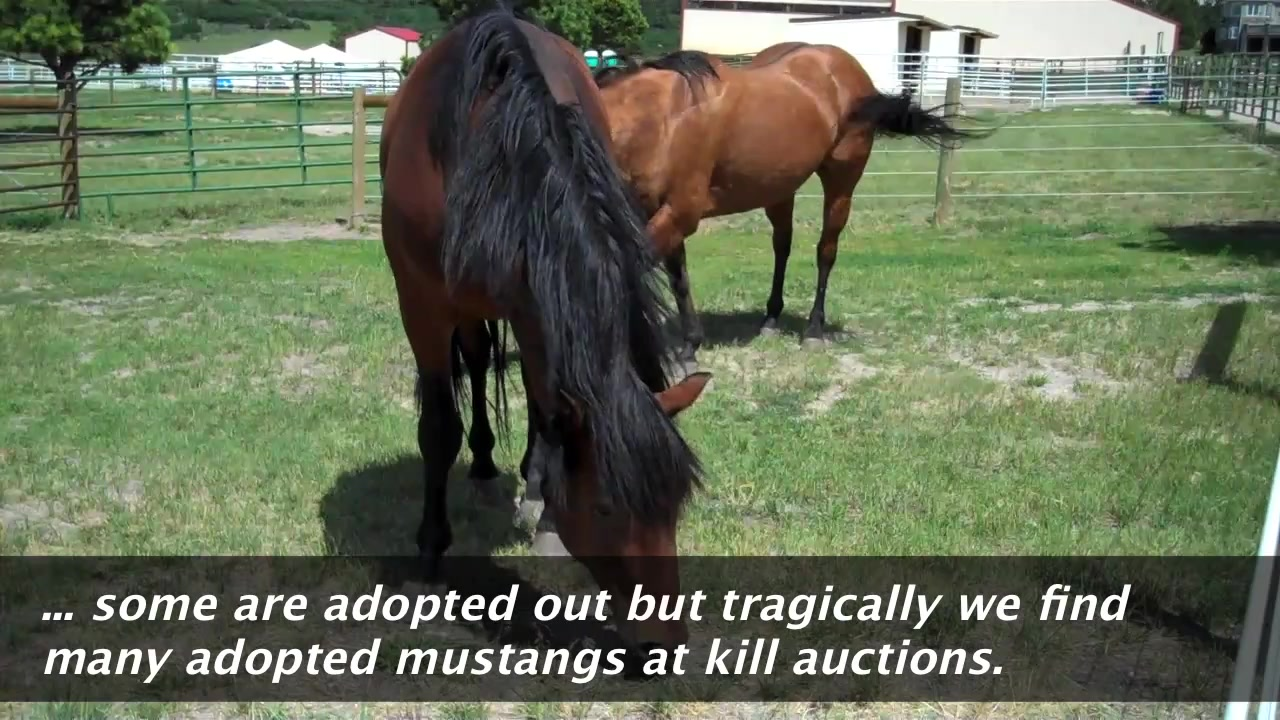horse: (380, 6, 718, 682), (594, 40, 1010, 363)
